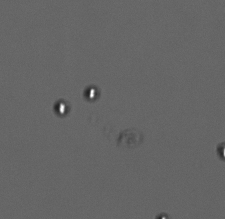Living Cell: (52, 98, 70, 117), (82, 84, 100, 102)
